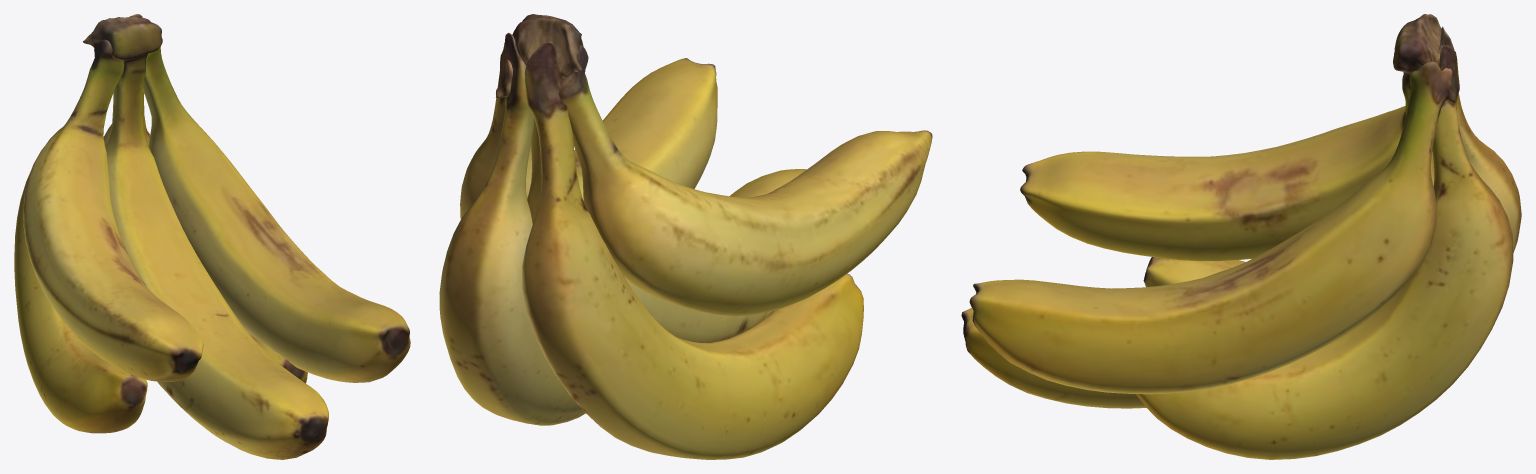
File: bananas.glb
3 views of the same model, side by side, from view 1: azimuth 30°, elevation 25°; view 2: azimuth 150°, elevation 25°; view 3: azimuth 270°, elevation 25° (orthographic). The views are drawn at different scales.
Parts seen in each view (by area): view 1: bananas_0; view 2: bananas_0; view 3: bananas_0.
Boxes of the visible parts, left/top/right/bottom form: bananas_0: left=14, top=14, right=410, bottom=459; bananas_0: left=439, top=14, right=932, bottom=459; bananas_0: left=961, top=14, right=1521, bottom=459.
Bounding box in the file's own units: 0.1338 × 0.1788 × 0.2229.
1 material, 1 textured.
